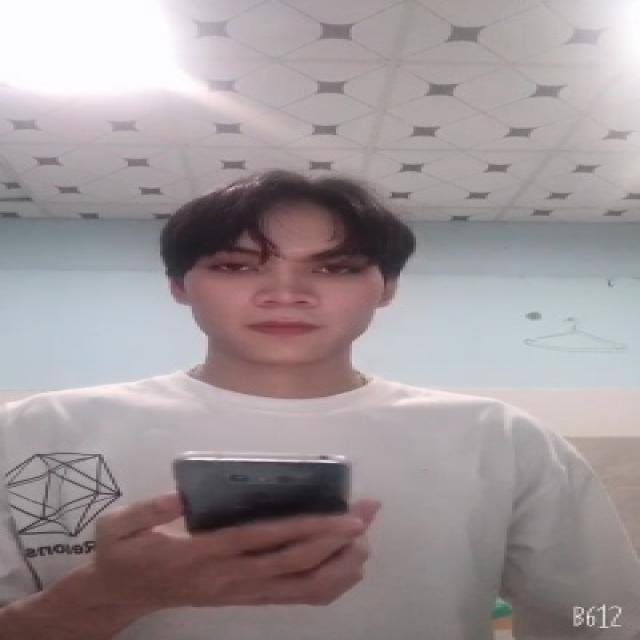Phone: (173, 451, 353, 532)
